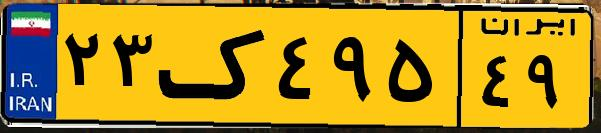2: (57, 26, 110, 100)
3: (110, 28, 158, 98)
4: (270, 28, 330, 110), (475, 38, 525, 113)
5: (385, 28, 445, 110)
9: (330, 28, 385, 110), (525, 38, 570, 115)
ک: (158, 12, 270, 120)
